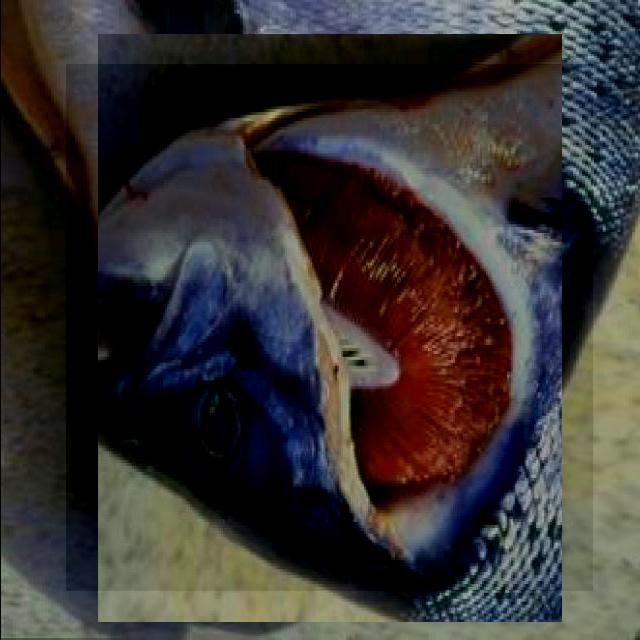Gill Disease: (65, 64, 592, 591)
